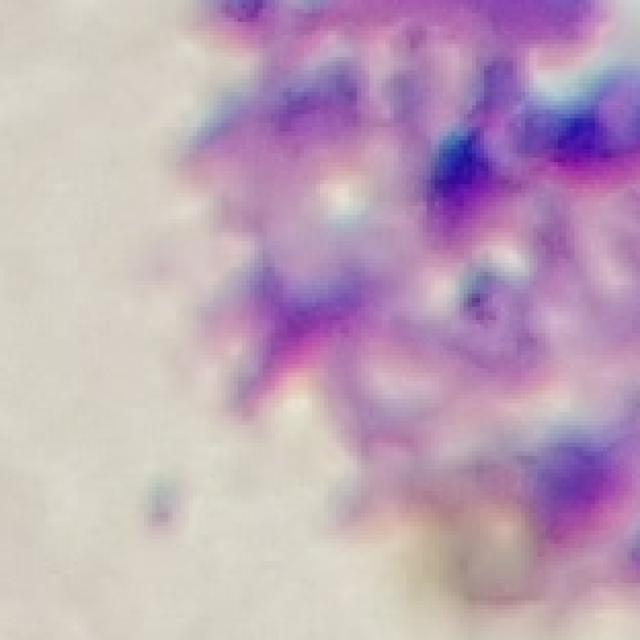non-sperm: (164, 34, 640, 548)
